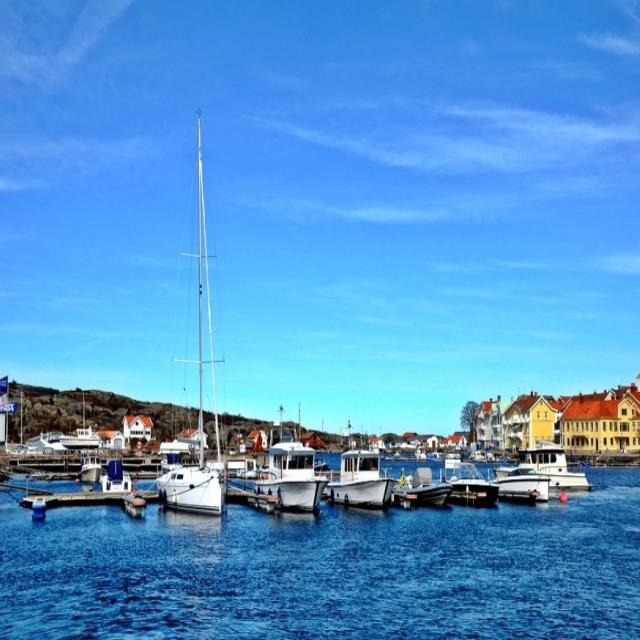passenger ship: (263, 425, 337, 517), (156, 428, 222, 528), (326, 428, 388, 520), (438, 450, 502, 497)
